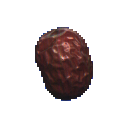gd: (18, 13, 121, 121)
